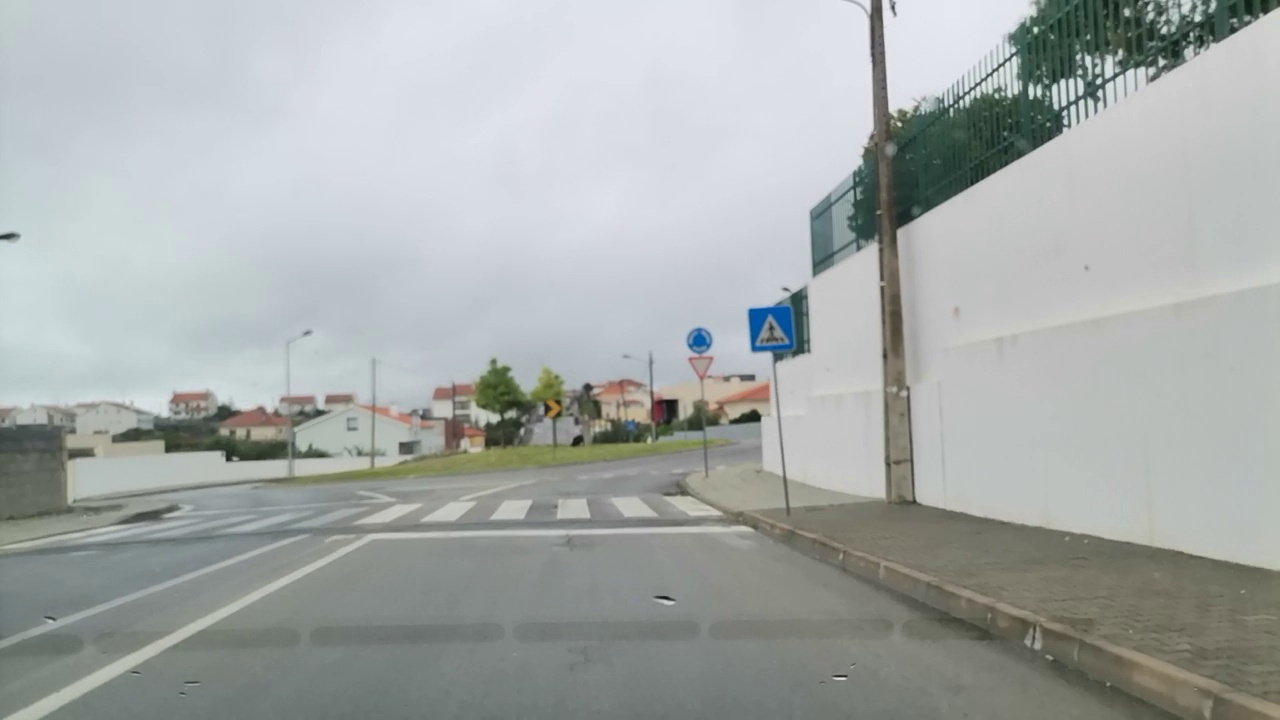Stairs: (22, 492, 720, 542)
